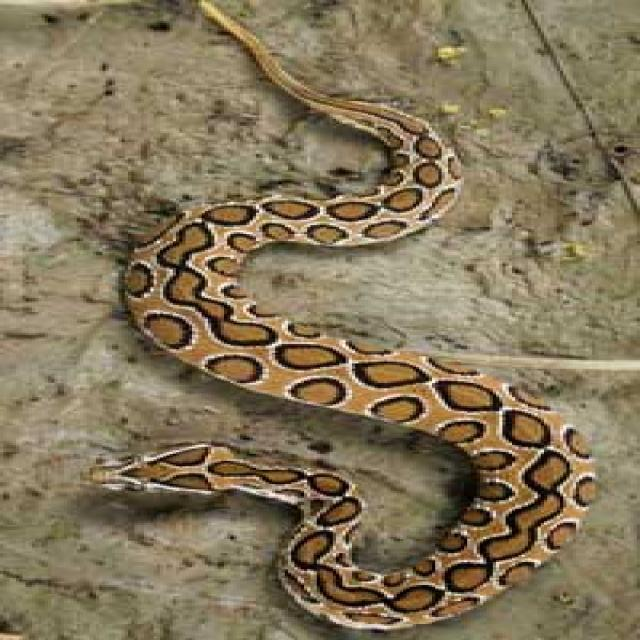Snake: (71, 0, 610, 637)
